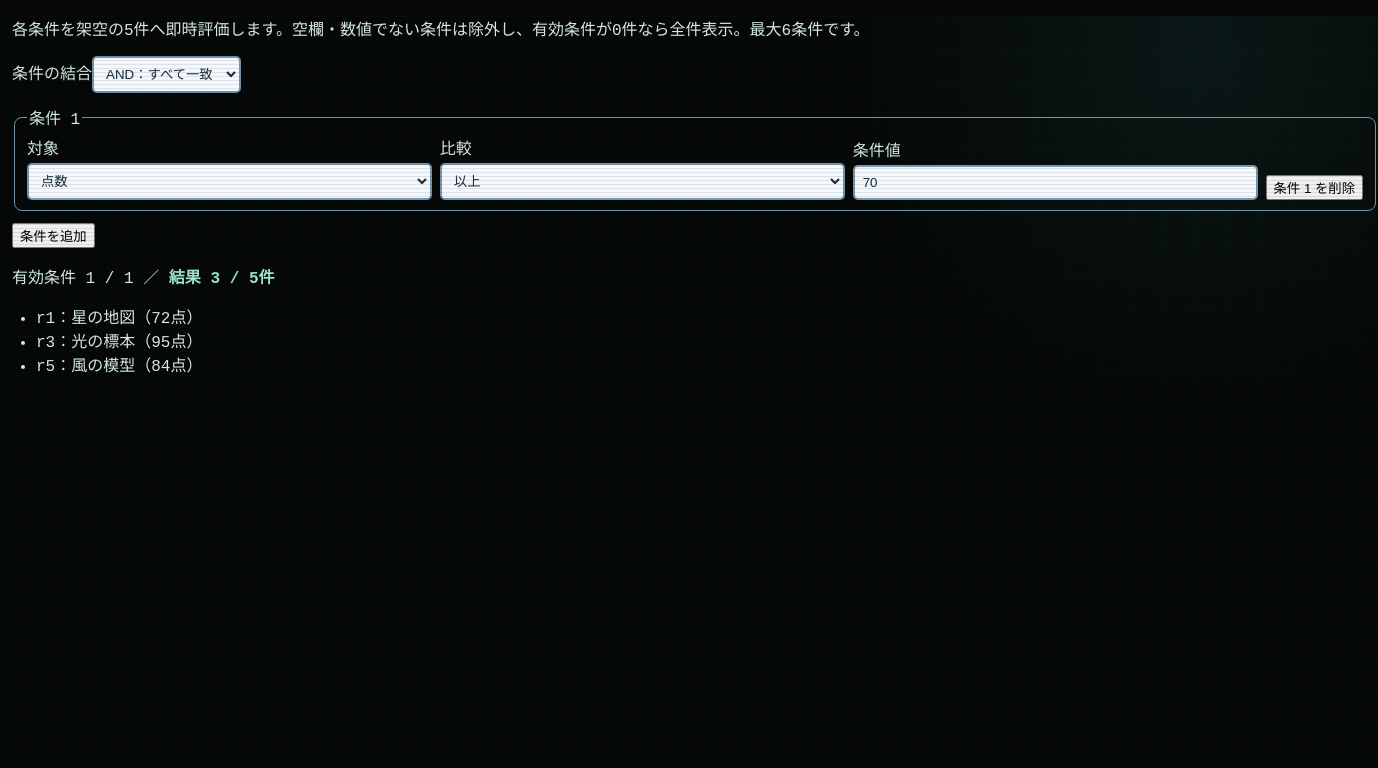
Test: filter AND and OR evaluate real matching records
This screenshot has width=1378, height=768.
Expected: the text "結果 3 / 5件" is shown, [169, 264, 275, 288]
Click the button "条件を追加".
click(53, 235)  # box [12, 223, 95, 248]
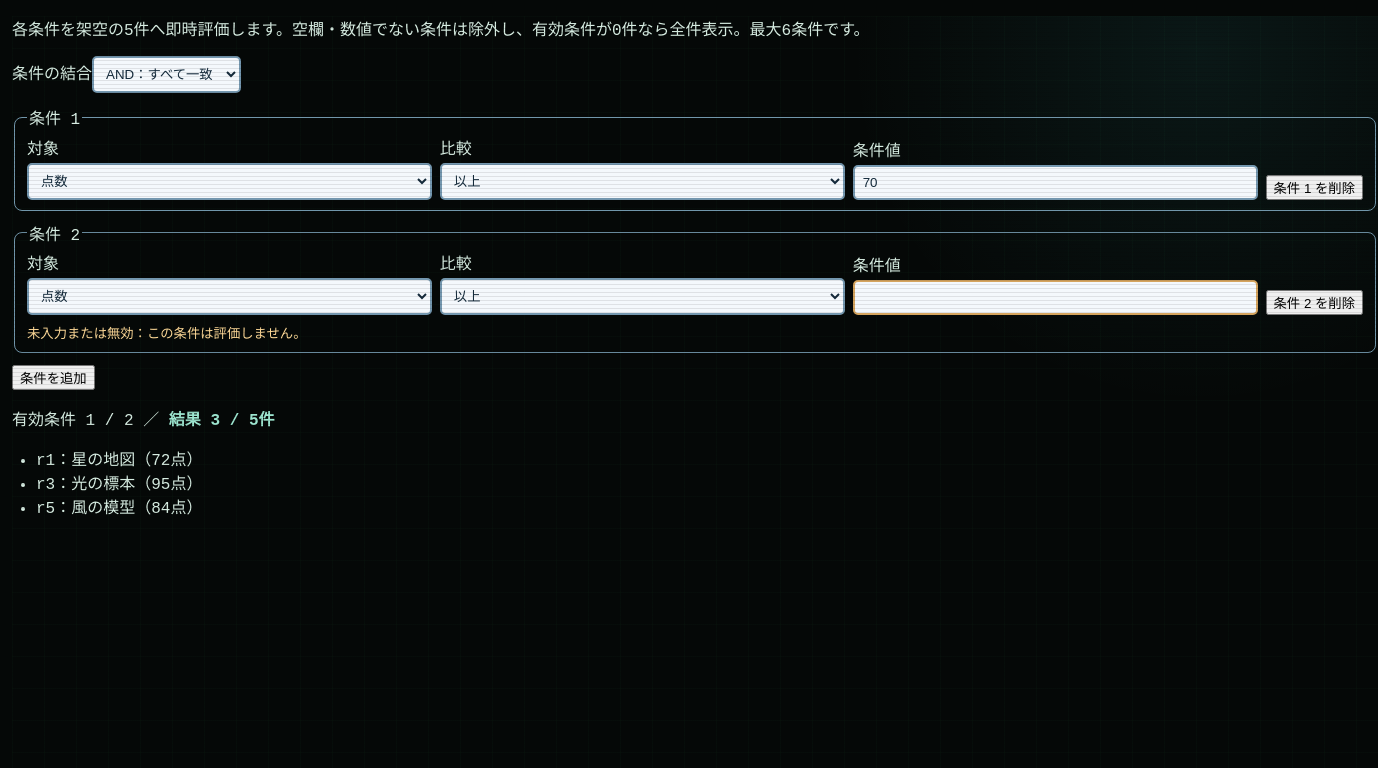
Select "以下" in the 2nd dropdown labelled "比較" at (642, 297), box [440, 278, 845, 315]
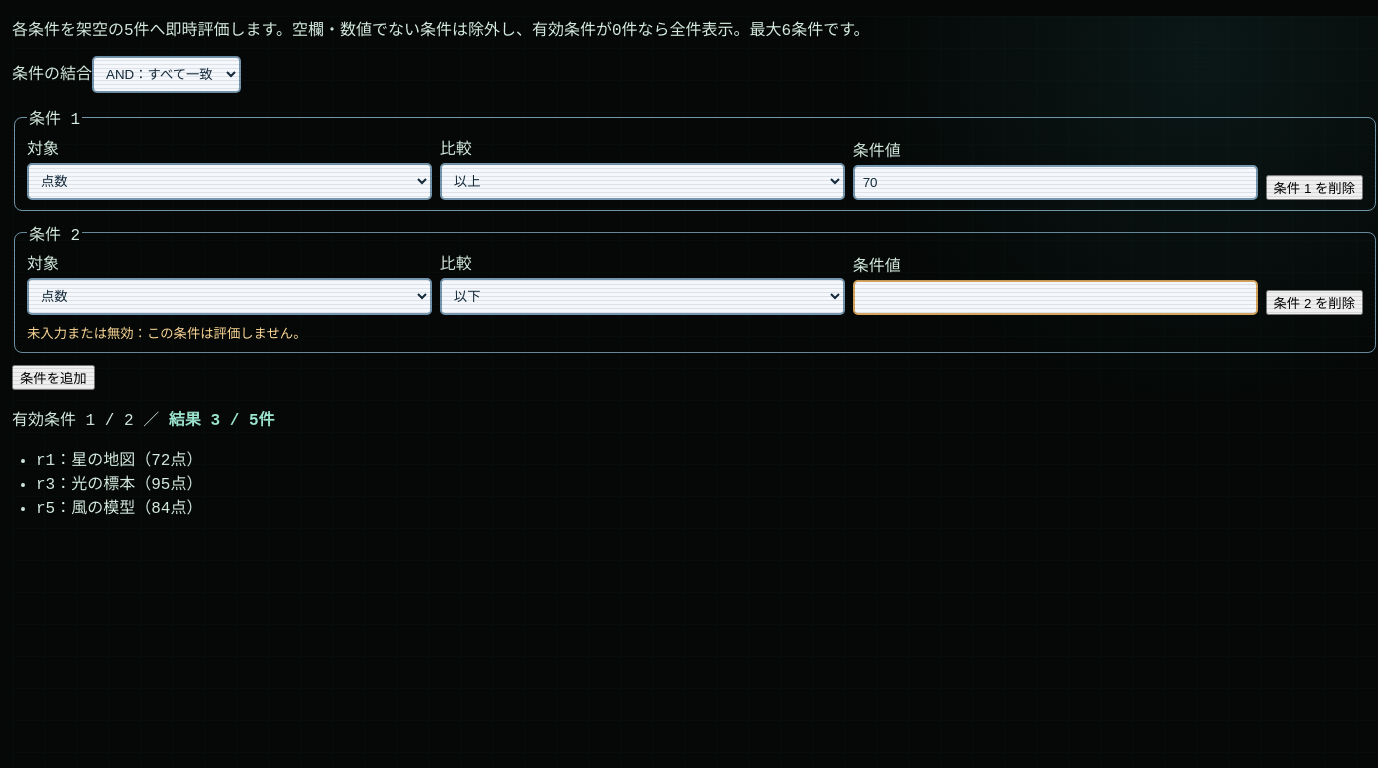
Type "80" into the 2nd field labelled "条件値".
click(1055, 298); type("80")  # box [853, 280, 1258, 315]
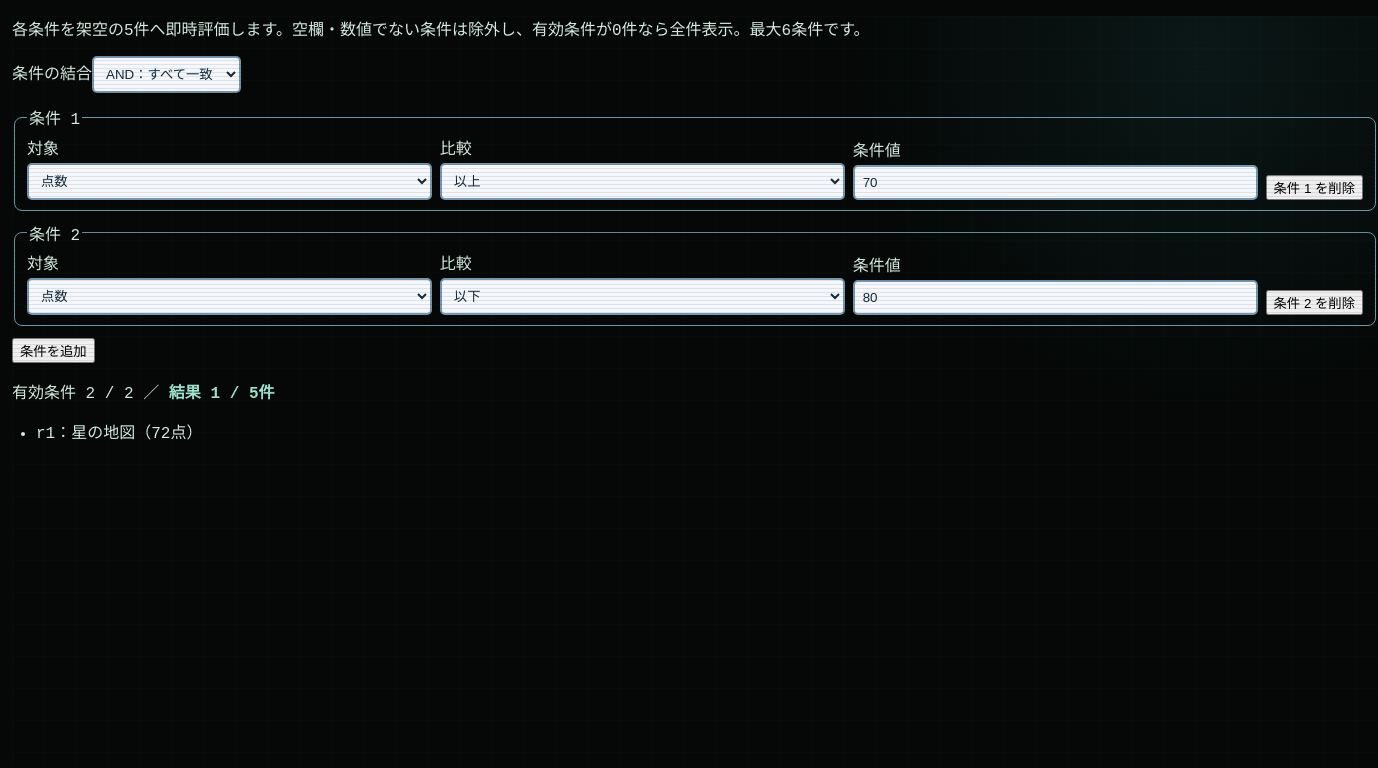
Expected: the text "結果 1 / 5件" is shown, [169, 379, 275, 403]
Select "OR：どれか一致" in the dropdown labelled "条件の結合" at (166, 74), box [92, 56, 241, 93]
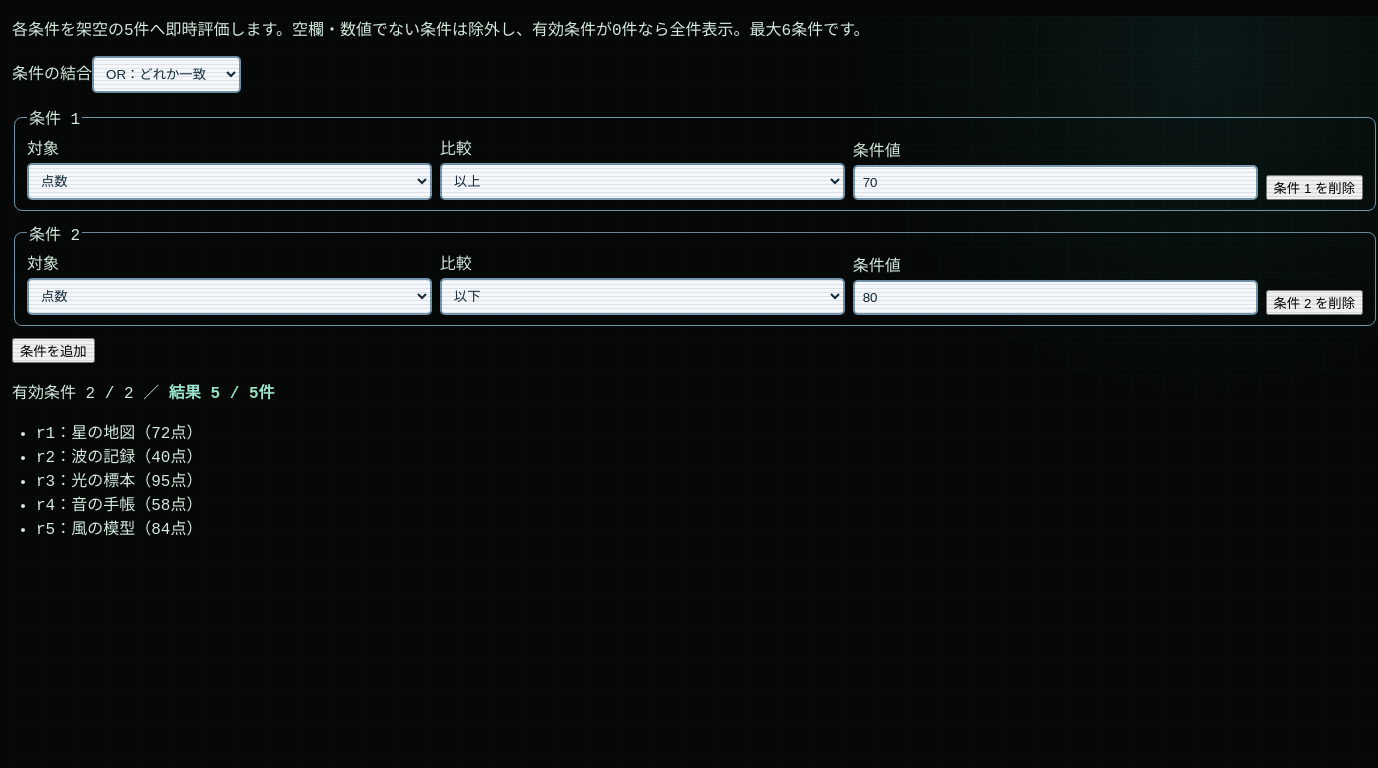
Expected: the text "結果 5 / 5件" is shown, [169, 379, 275, 403]
